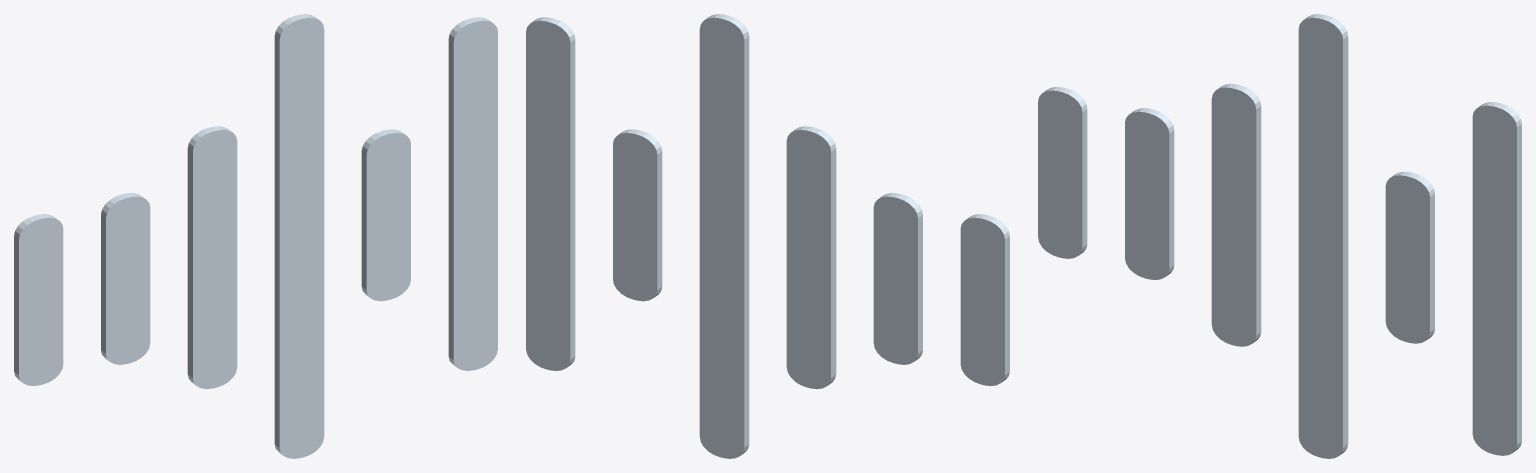
Rendered from Audio_3D_Icon_01.fbx.
3 views of the same model, side by side, from view 1: azimuth 30°, elevation 25°; view 2: azimuth 150°, elevation 25°; view 3: azimuth 330°, elevation 25° (orthographic).
Parts seen in each view (by area): view 1: Audio_3D_Icon_01; view 2: Audio_3D_Icon_01; view 3: Audio_3D_Icon_01.
Part boxes in pixels (<box>): Audio_3D_Icon_01: <box>14,14,497,458</box>; Audio_3D_Icon_01: <box>526,14,1009,458</box>; Audio_3D_Icon_01: <box>1038,14,1521,458</box>.
Size of the model in its own units: 110 by 96.5 by 2.
